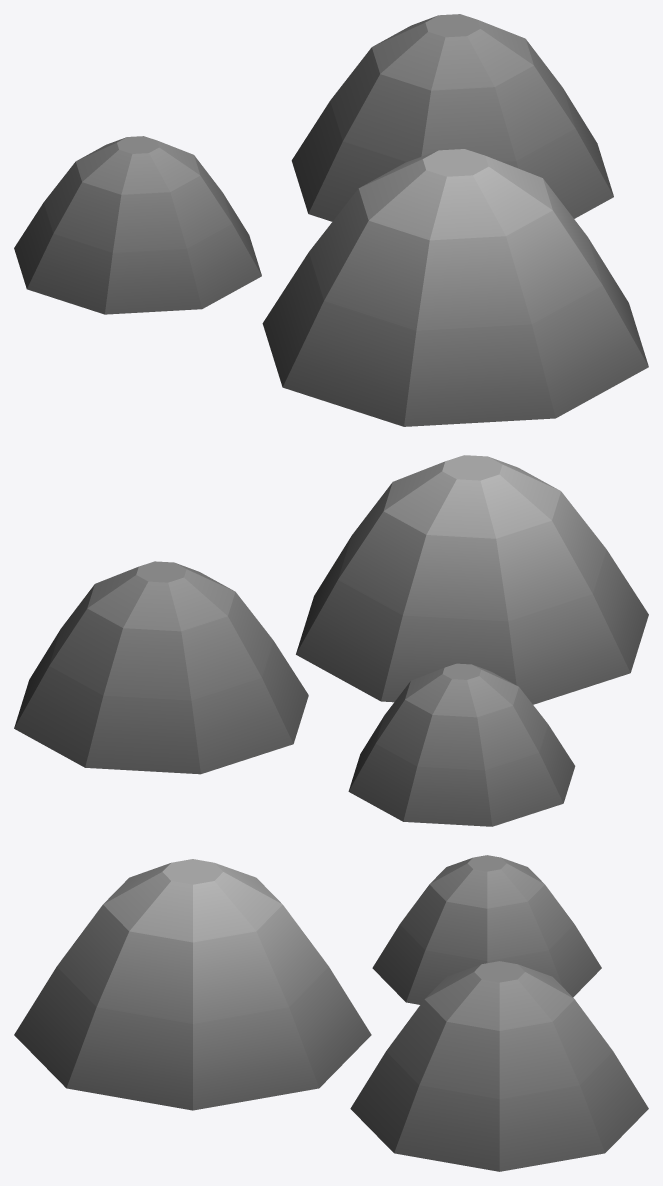
The model's file is coals.fbx.
3 renders of one model, top to bottom at view 1: azimuth 30°, elevation 25°; view 2: azimuth 150°, elevation 25°; view 3: azimuth 270°, elevation 25°, orthographic. The views are drawn at different scales.
Parts seen in each view (by area): view 1: coals; view 2: coals; view 3: coals.
Boxes of the visible parts, x1,y1,x2,y2 form: coals: (14, 14, 648, 426); coals: (14, 455, 648, 826); coals: (14, 855, 648, 1171).
Bounding box in the file's own units: 511 × 154 × 544.
1 material, 1 textured.
